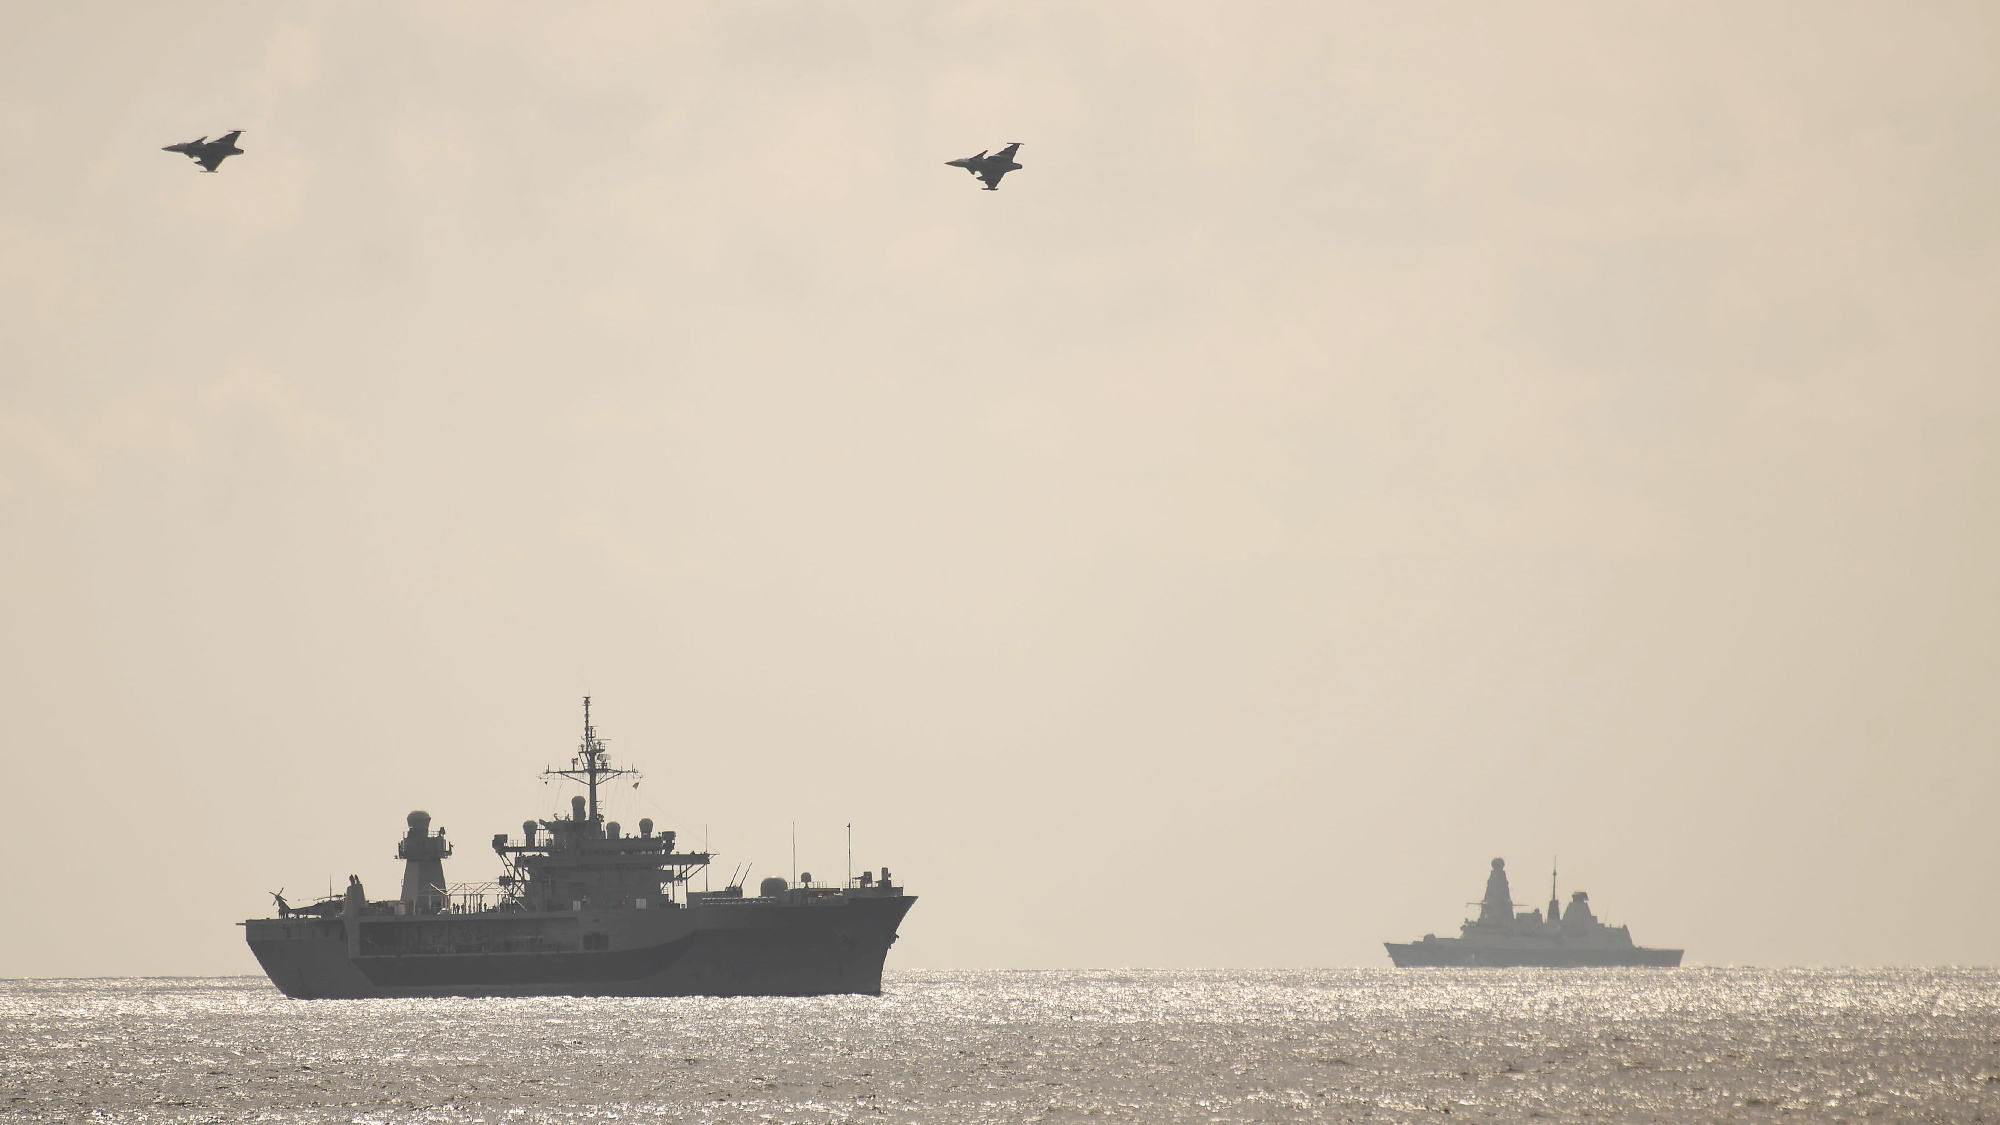JAS39: (944, 141, 1026, 191), (159, 129, 247, 173)
